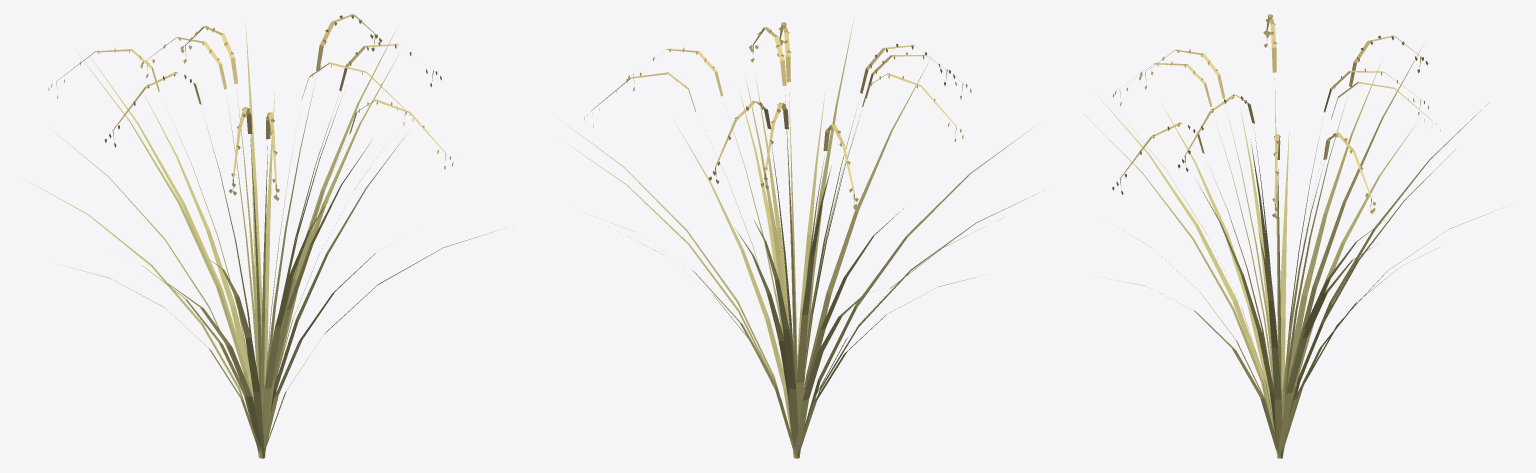
Rendered from rice_ripening_lod0.glb.
The picture shows the model from 3 angles, left to right: view 1: azimuth 30°, elevation 25°; view 2: azimuth 150°, elevation 25°; view 3: azimuth 270°, elevation 25°; orthographic projection. The views are drawn at different scales.
Parts seen in each view (by area): view 1: rice_ripening_leaves, rice_ripening_culms, rice_ripening_panicles; view 2: rice_ripening_leaves, rice_ripening_panicles, rice_ripening_culms; view 3: rice_ripening_leaves, rice_ripening_culms, rice_ripening_panicles.
Part boxes in pixels (x1,y1,x2,y2): rice_ripening_leaves: (23,19,504,458); rice_ripening_culms: (171,79,343,414); rice_ripening_panicles: (48,14,453,200); rice_ripening_leaves: (556,21,1044,458); rice_ripening_panicles: (584,22,971,209); rice_ripening_culms: (702,83,859,385); rice_ripening_leaves: (1083,44,1503,458); rice_ripening_culms: (1211,78,1345,420); rice_ripening_panicles: (1112,14,1440,219).
Size of the model in its own units: 0.9392 by 0.9079 by 0.9206.
